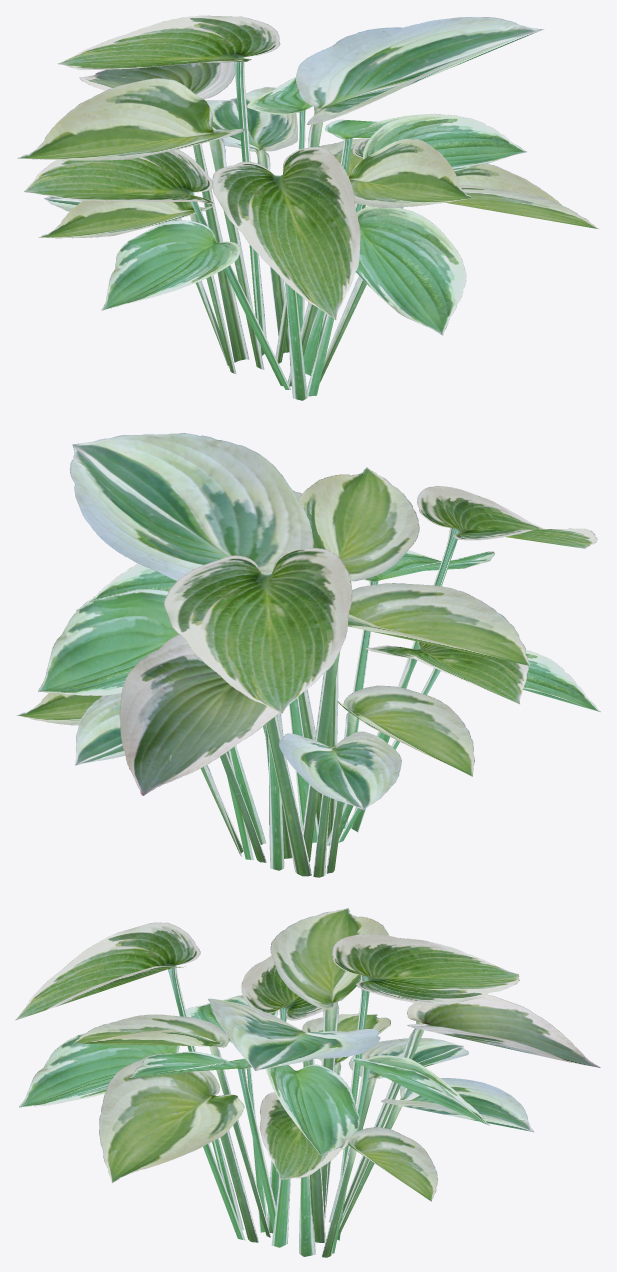
The model's file is plant_small_wg_00S.fbx.
The picture shows the model from 3 angles, top to bottom: view 1: azimuth 30°, elevation 25°; view 2: azimuth 150°, elevation 25°; view 3: azimuth 270°, elevation 25°; orthographic projection. The views are drawn at different scales.
Parts seen in each view (by area): view 1: plant_small_wg_00S; view 2: plant_small_wg_00S; view 3: plant_small_wg_00S.
Part boxes in pixels (x1,y1,x2,y2): plant_small_wg_00S: [17, 15, 598, 400]; plant_small_wg_00S: [17, 433, 600, 877]; plant_small_wg_00S: [15, 908, 600, 1257].
Size of the model in its own units: 62 by 39.5 by 73.17.
Materials: 1 (1 with a texture image).
